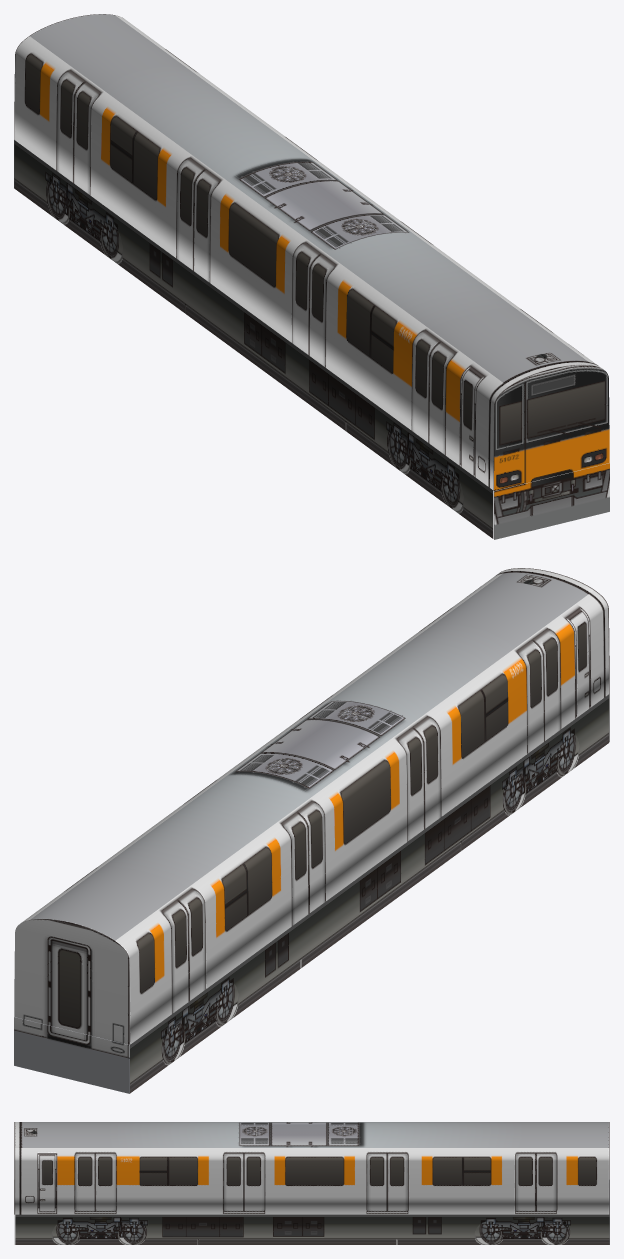
Rendered from car1.glb.
3 views of the same model, one above another, from view 1: azimuth 30°, elevation 25°; view 2: azimuth 150°, elevation 25°; view 3: azimuth 270°, elevation 25° (orthographic). The views are drawn at different scales.
Parts seen in each view (by area): view 1: tobu-50070-car1; view 2: tobu-50070-car1; view 3: tobu-50070-car1.
Part boxes in pixels (bbox=[...]): tobu-50070-car1: bbox=[14, 14, 609, 539]; tobu-50070-car1: bbox=[14, 568, 609, 1093]; tobu-50070-car1: bbox=[14, 1122, 609, 1244].
Bounding box in the file's own units: 2.8 × 3.62 × 20.16.
Materials: 9 (8 with a texture image).
